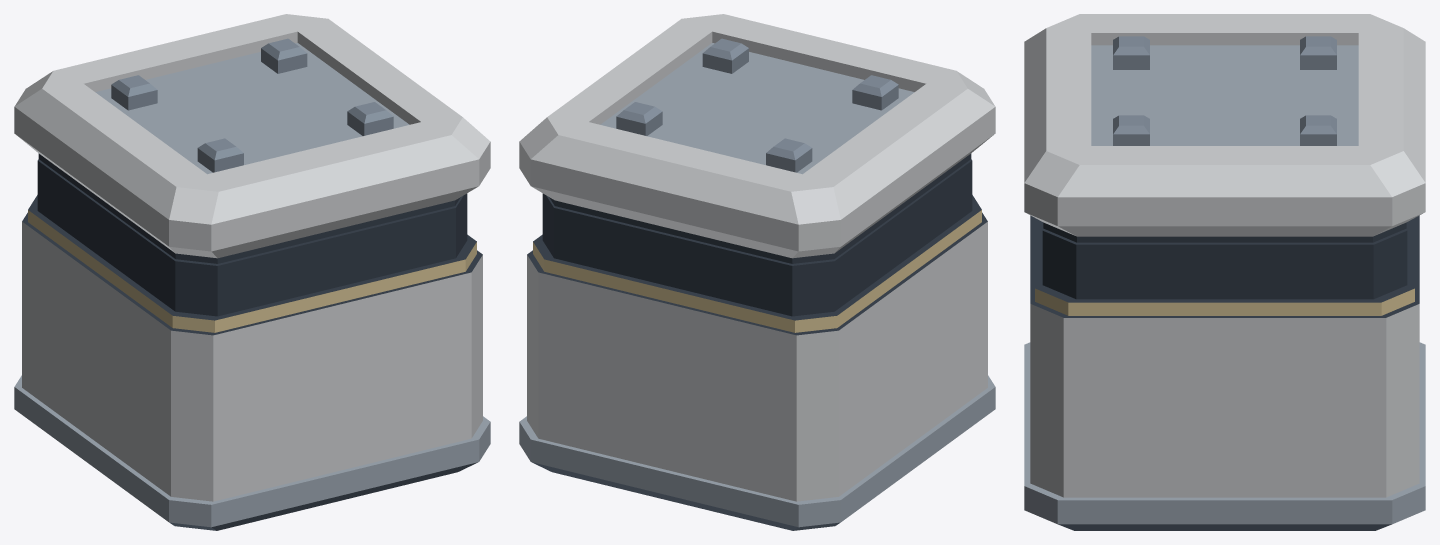
The model's file is composite-supply-crate-1547cb.glb.
3 views of the same model, side by side, from view 1: azimuth 30°, elevation 25°; view 2: azimuth 150°, elevation 25°; view 3: azimuth 270°, elevation 25° (orthographic). The views are drawn at different scales.
Visible parts, largest first — view 1: crate-body, lid-mesh; view 2: crate-body, lid-mesh; view 3: crate-body, lid-mesh.
Part boxes in pixels (x1,y1,x2,y2): crate-body: [14, 159, 490, 530]; lid-mesh: [14, 14, 490, 263]; crate-body: [519, 159, 995, 530]; lid-mesh: [519, 14, 995, 263]; crate-body: [1024, 215, 1425, 530]; lid-mesh: [1024, 14, 1425, 242].
Size of the model in its own units: 1.2 by 1.23 by 1.2.
